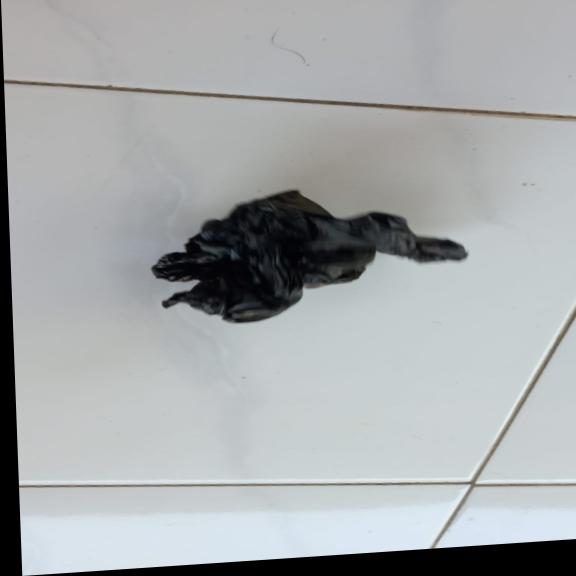Plastik: (147, 179, 468, 330)
